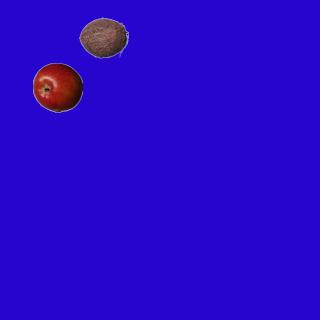Apple Braeburn: (32, 62, 82, 112)
Cocos: (78, 12, 128, 62)
